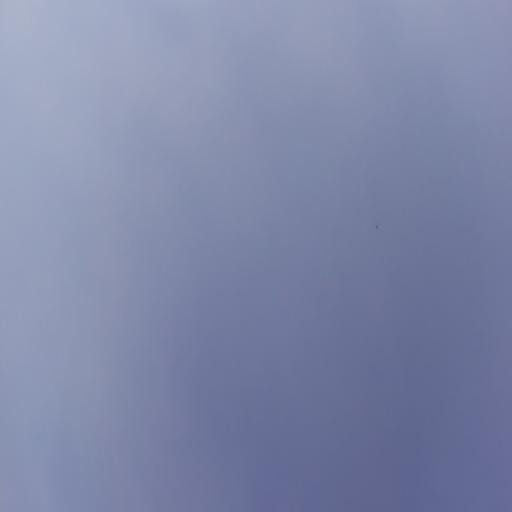drones: (374, 222, 380, 230)
